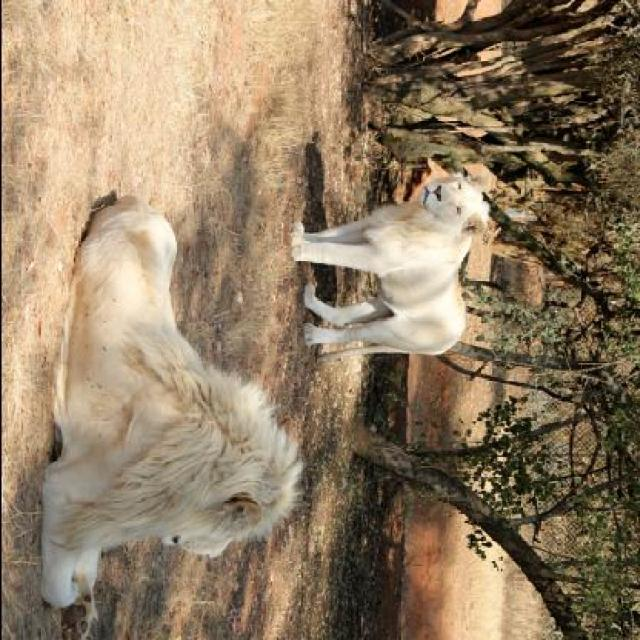Lion: (14, 183, 321, 608), (248, 138, 514, 378)
